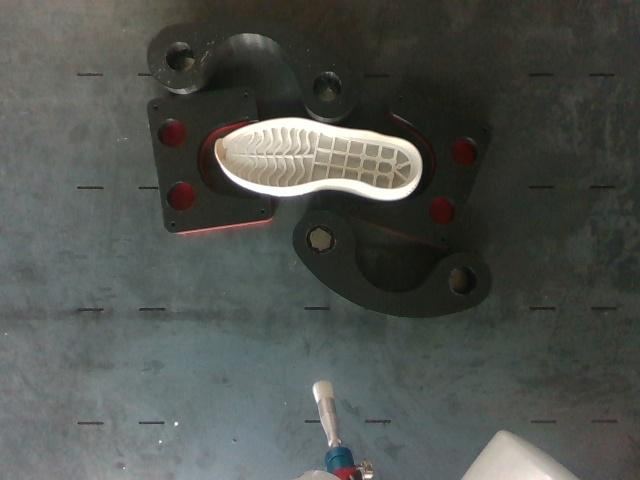shoes: (215, 120, 419, 190)
